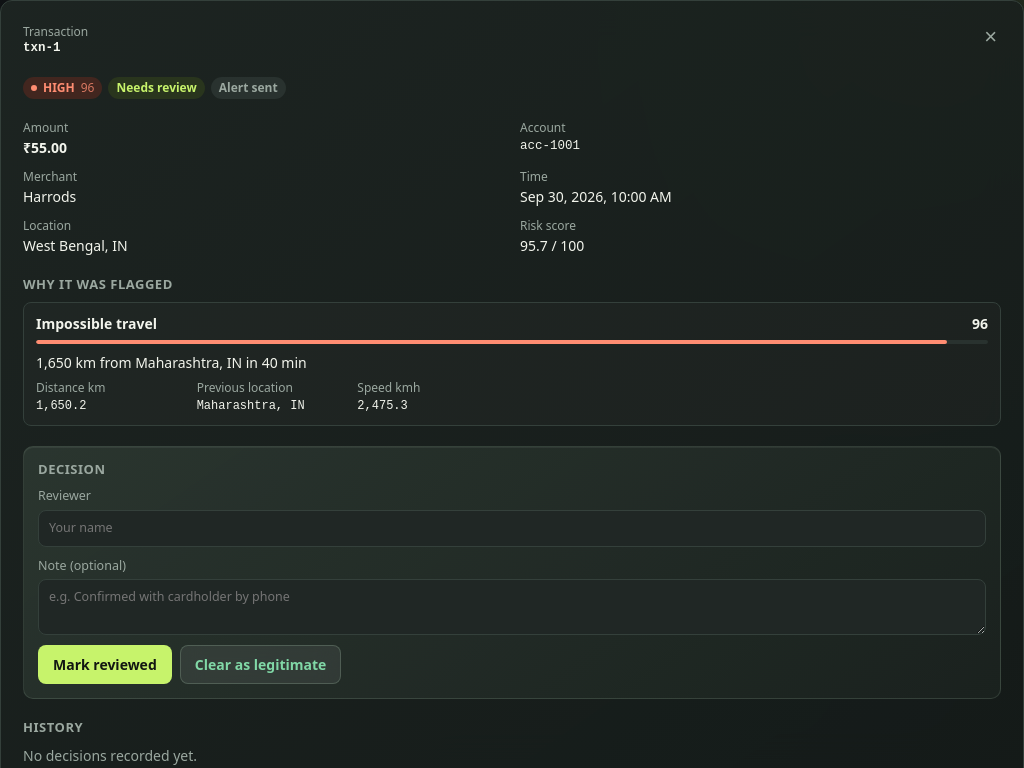
Test: TransactionDetail › requires a reviewer name before recording a decision
Click the button "Clear as legitimate" at (261, 664), box [180,645,341,684]
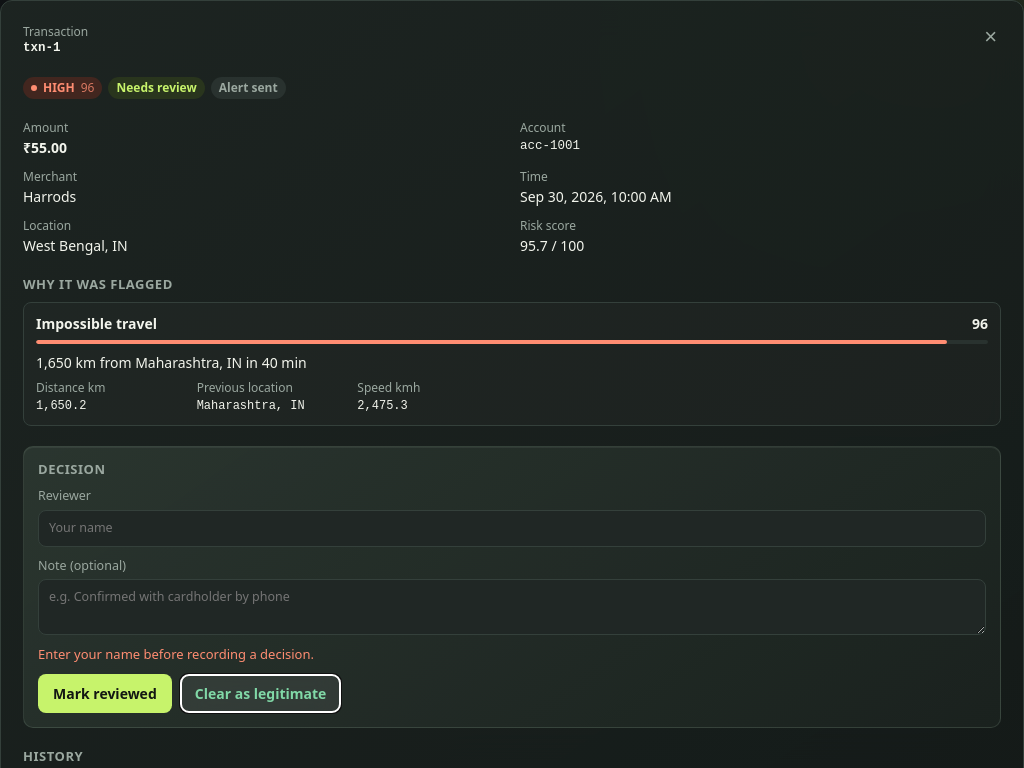
Now the message shows "Enter your name", box [38,645,314,663]
